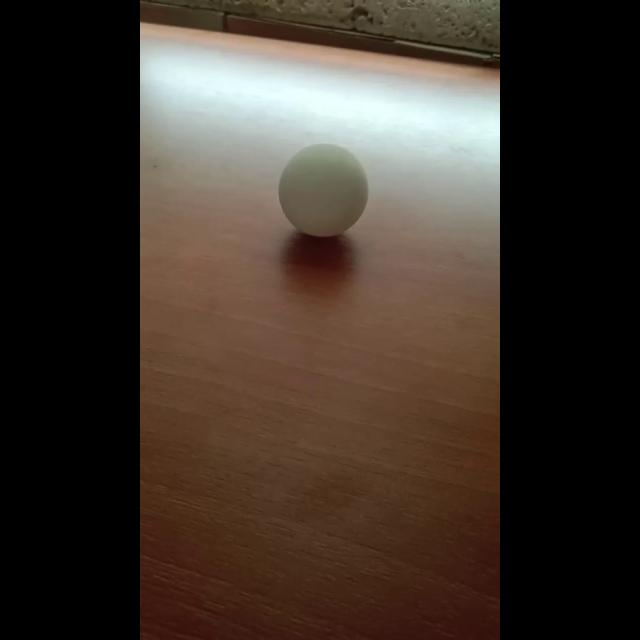white ball: (277, 142, 368, 238)
